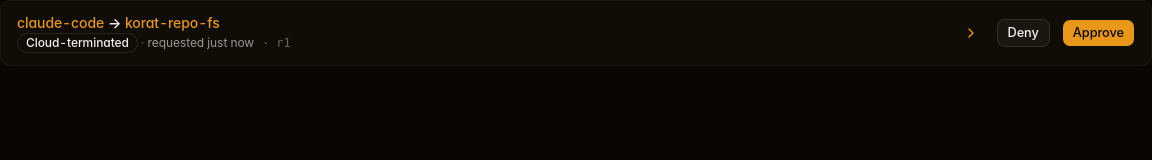
Test: AccessRequestCard + useApproveRequest › approve click POSTs and shows receipt toast
Click the button "Approve": [1098, 33] box [1062,19,1135,47]
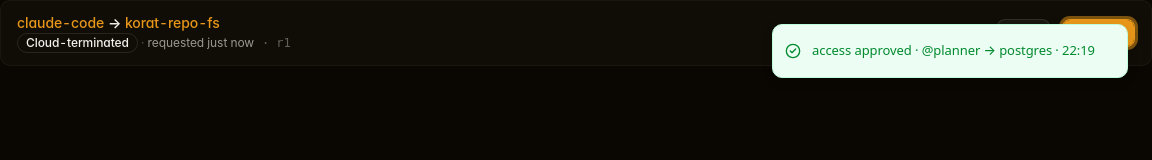
Check: the text "access approved · @planner → postgres · 22:19" is shown, box [812,41,1095,60]
